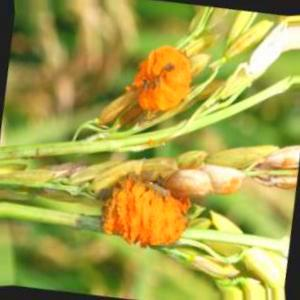Leaf_Scald: (107, 181, 184, 242), (138, 43, 189, 116)
